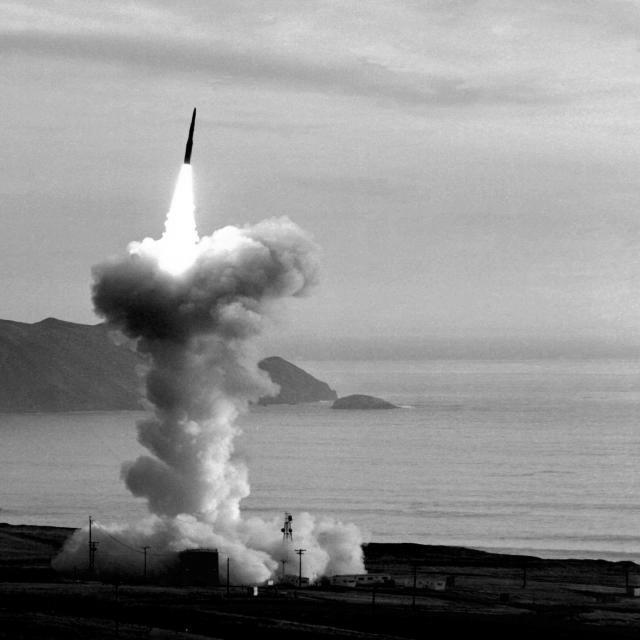Missile: (166, 107, 214, 165)
